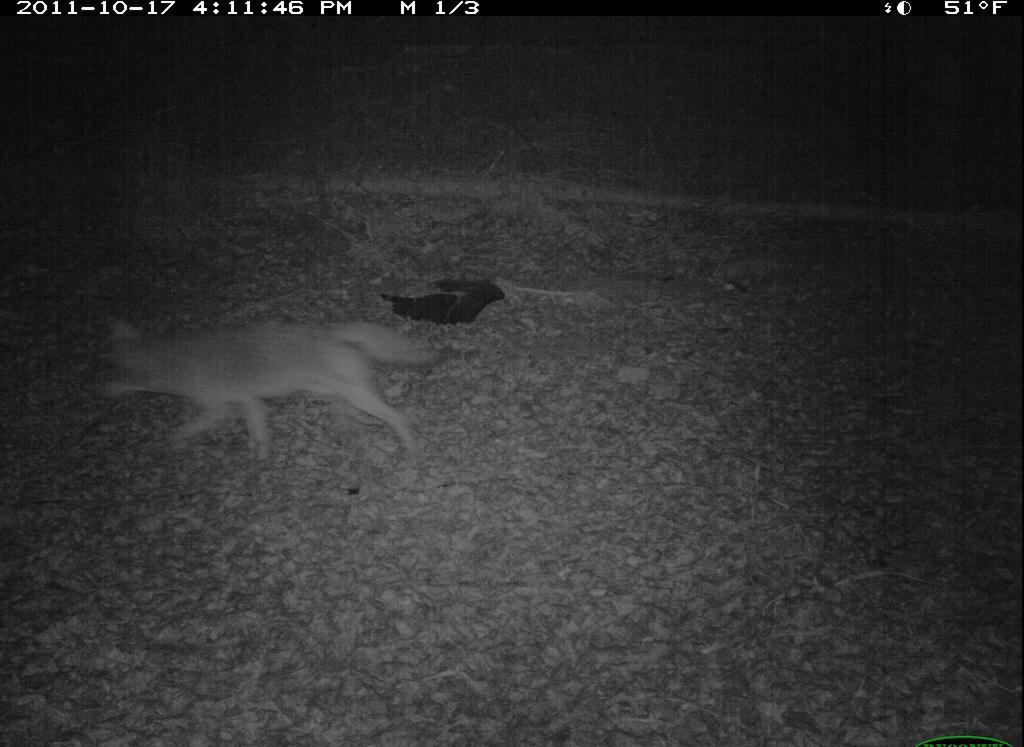coyote: (86, 297, 441, 484)
